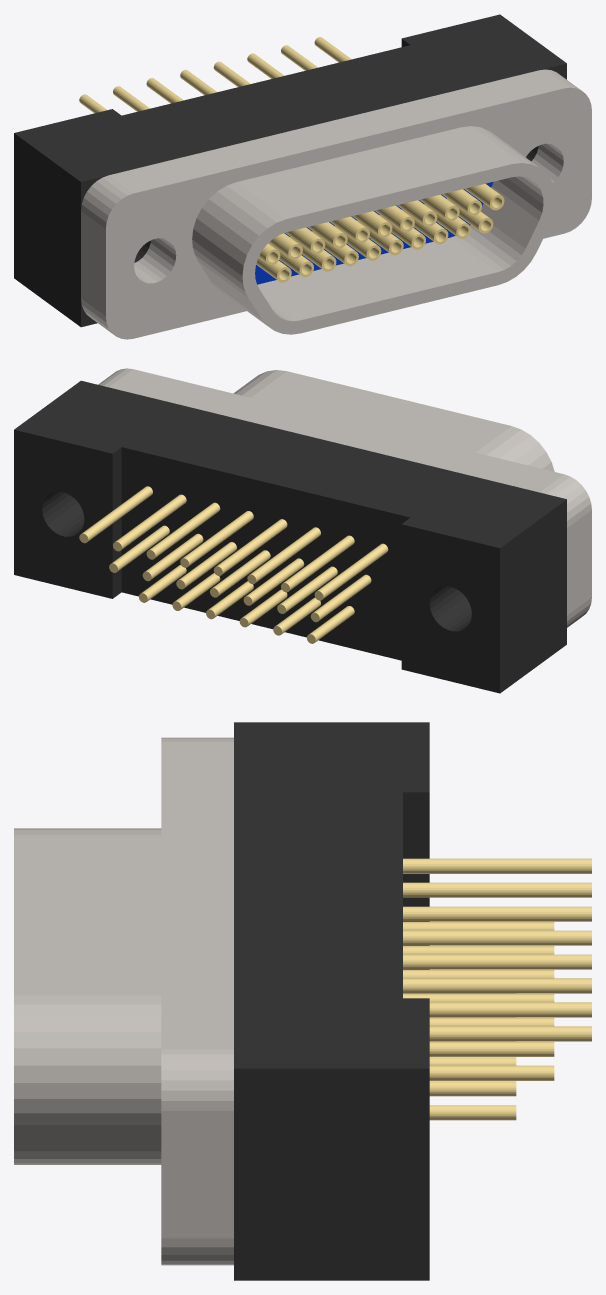
File: GMR7580-21S1BNN.obj
The picture shows the model from 3 angles, top to bottom: view 1: azimuth 30°, elevation 25°; view 2: azimuth 150°, elevation 25°; view 3: azimuth 270°, elevation 25°; orthographic projection. The views are drawn at different scales.
Visible parts, largest first — view 1: GMR7580-21S1BNN; view 2: GMR7580-21S1BNN; view 3: GMR7580-21S1BNN.
Part boxes in pixels (x1,y1,x2,y2): GMR7580-21S1BNN: (14, 14, 591, 339); GMR7580-21S1BNN: (14, 368, 591, 693); GMR7580-21S1BNN: (14, 722, 591, 1280).
Size of the model in its own units: 0.0288 by 0.00821 by 0.0203.
